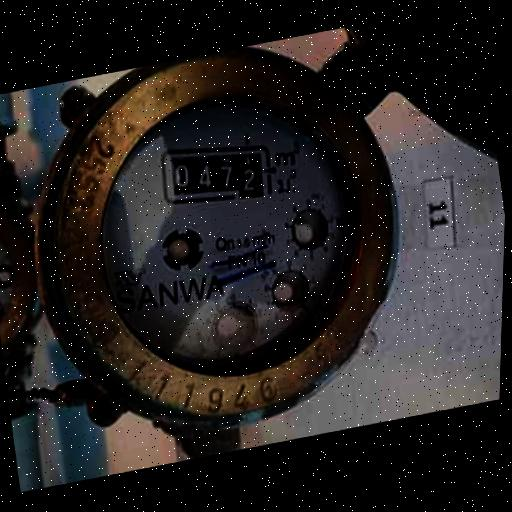0: (167, 153, 197, 197)
2: (232, 149, 267, 201)
4: (189, 152, 220, 195)
7: (210, 149, 241, 194)
border_water_meter_number: (152, 128, 281, 217)
